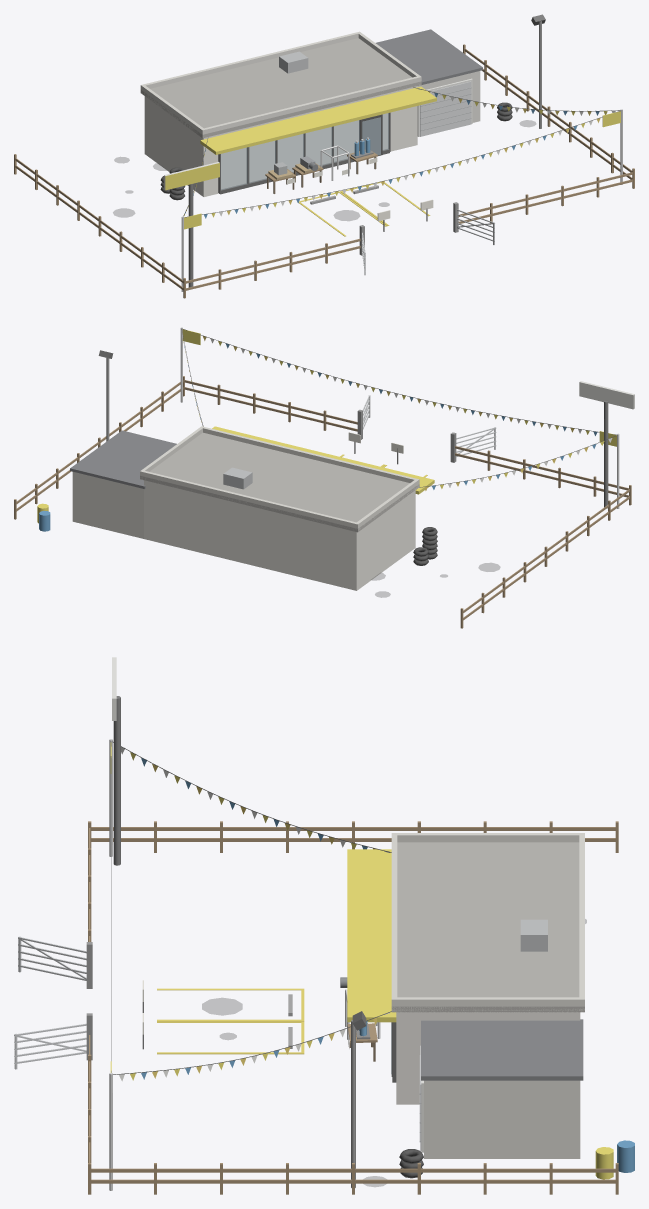
File: gethin_autos.glb
3 views of the same model, one above another, from view 1: azimuth 30°, elevation 25°; view 2: azimuth 150°, elevation 25°; view 3: azimuth 270°, elevation 25° (orthographic). The views are drawn at different scales.
Bounding box in the file's own units: 27.11 × 6.7 × 20.25.
